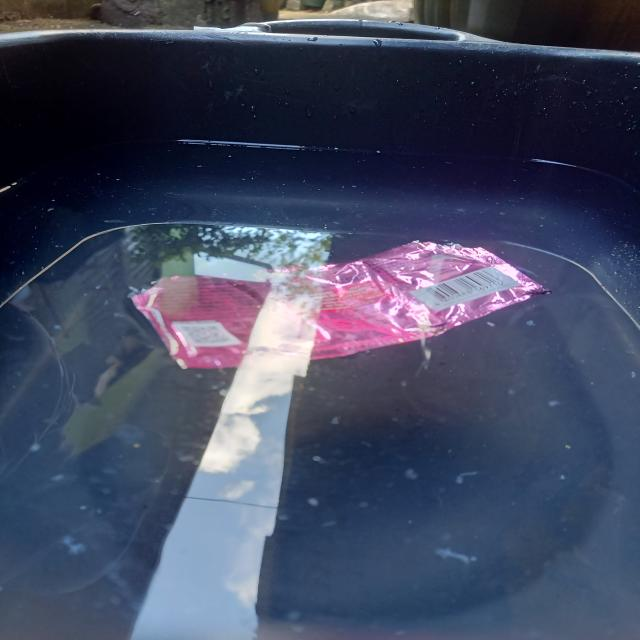Plastic Wrapper: (303, 241, 547, 360), (134, 272, 264, 369)
